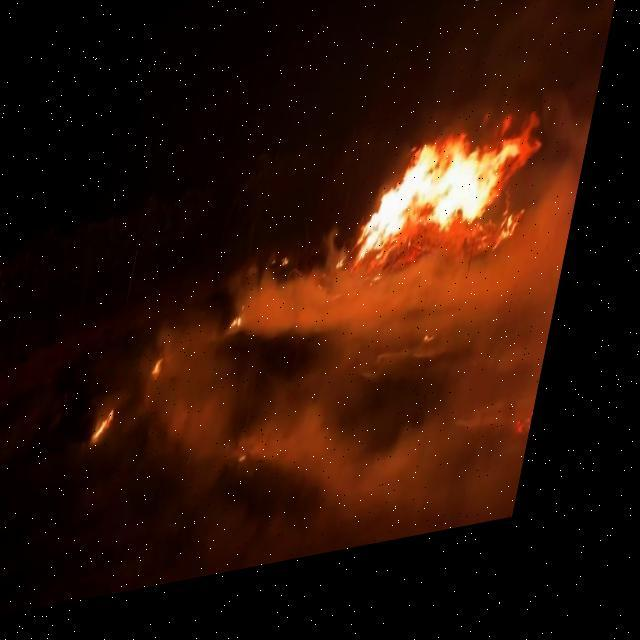Fire: (357, 122, 561, 296), (110, 414, 134, 452), (166, 359, 183, 389), (246, 323, 258, 340), (294, 266, 304, 282), (348, 272, 358, 286)
